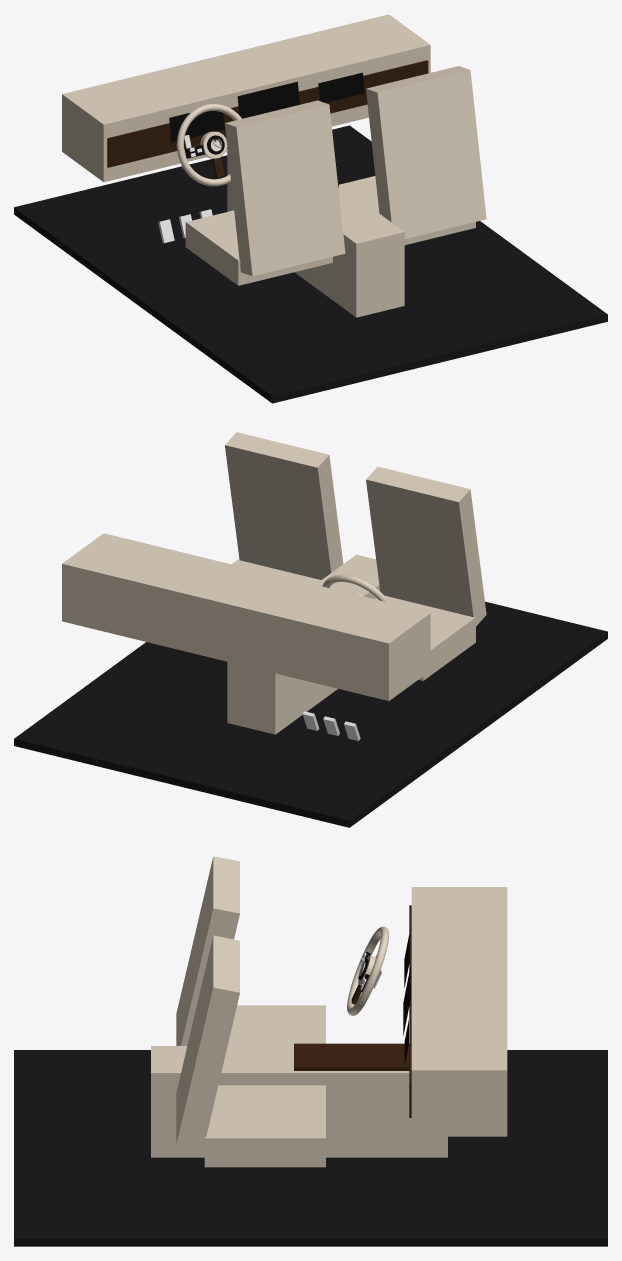
Rendered from rolls_royce_cabin.glb.
The picture shows the model from 3 angles, top to bottom: view 1: azimuth 30°, elevation 25°; view 2: azimuth 150°, elevation 25°; view 3: azimuth 270°, elevation 25°; orthographic projection. The views are drawn at different scales.
Visible parts, largest first — view 1: Cabin_Floor, Dashboard_Main, Seat_Driver_Back, Seat_Passenger_Back, Center_Console, Dashboard_Walnut_Trim, Seat_Driver_Base, Screen_YouTubeCenter, SteeringWheel_Rim, Seat_Passenger_Base, Screen_FrontCluster, Screen_RearCamera; view 2: Cabin_Floor, Dashboard_Main, Seat_Driver_Back, Seat_Passenger_Back, Center_Console, Seat_Driver_Base, Seat_Passenger_Base, SteeringWheel_Rim; view 3: Cabin_Floor, Dashboard_Main, Center_Console, Seat_Passenger_Base, Seat_Passenger_Back, Seat_Driver_Back, Seat_Driver_Base, Center_Console_Wood, SteeringWheel_Rim, Dashboard_Walnut_Trim.
Part boxes in pixels (box(x1,y1,x2,y2)): Cabin_Floor: box(14, 125, 607, 403); Dashboard_Main: box(62, 14, 430, 182); Seat_Driver_Back: box(224, 100, 345, 276); Seat_Passenger_Back: box(366, 66, 486, 238); Center_Console: box(227, 152, 404, 317); Dashboard_Walnut_Trim: box(107, 60, 428, 167); Seat_Driver_Base: box(185, 210, 332, 285); Screen_YouTubeCenter: box(237, 81, 299, 118); SteeringWheel_Rim: box(176, 103, 241, 186); Seat_Passenger_Base: box(340, 176, 475, 244); Screen_FrontCluster: box(169, 111, 224, 142); Screen_RearCamera: box(318, 72, 364, 102); Cabin_Floor: box(14, 601, 607, 827); Dashboard_Main: box(62, 533, 430, 700); Seat_Driver_Back: box(366, 466, 486, 626); Seat_Passenger_Back: box(225, 432, 343, 579); Center_Console: box(227, 554, 380, 734); Seat_Driver_Base: box(375, 595, 475, 680); Seat_Passenger_Base: box(232, 559, 320, 584); SteeringWheel_Rim: box(322, 575, 389, 602); Cabin_Floor: box(14, 1050, 607, 1246); Dashboard_Main: box(411, 887, 507, 1136); Center_Console: box(151, 1046, 447, 1157); Seat_Passenger_Base: box(204, 1085, 325, 1167); Seat_Passenger_Back: box(176, 935, 239, 1150); Seat_Driver_Back: box(176, 856, 239, 1045); Seat_Driver_Base: box(227, 1005, 325, 1045); Center_Console_Wood: box(294, 1043, 409, 1070); SteeringWheel_Rim: box(347, 926, 388, 1015); Dashboard_Walnut_Trim: box(409, 905, 411, 1117).
Size of the model in its own units: 1.95 by 1.11 by 2.6.
6 materials, 1 textured.
